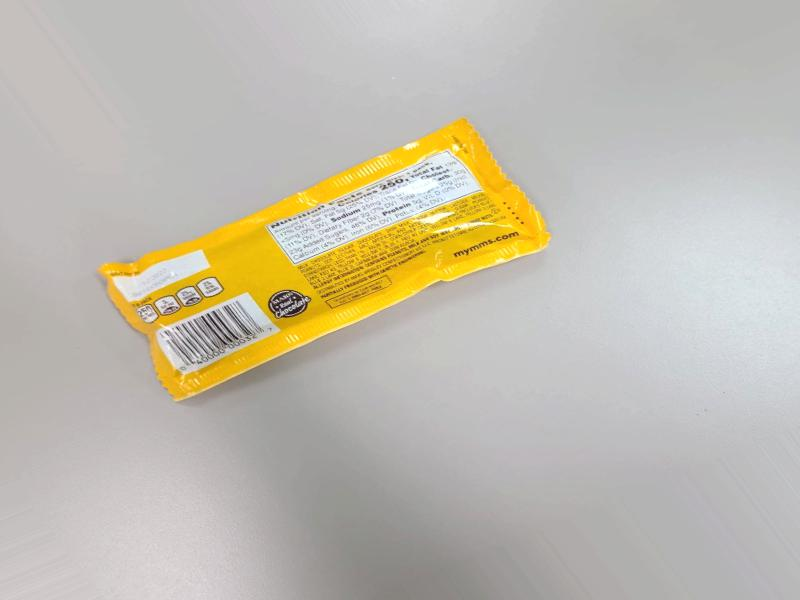m&m: (101, 102, 564, 419)
